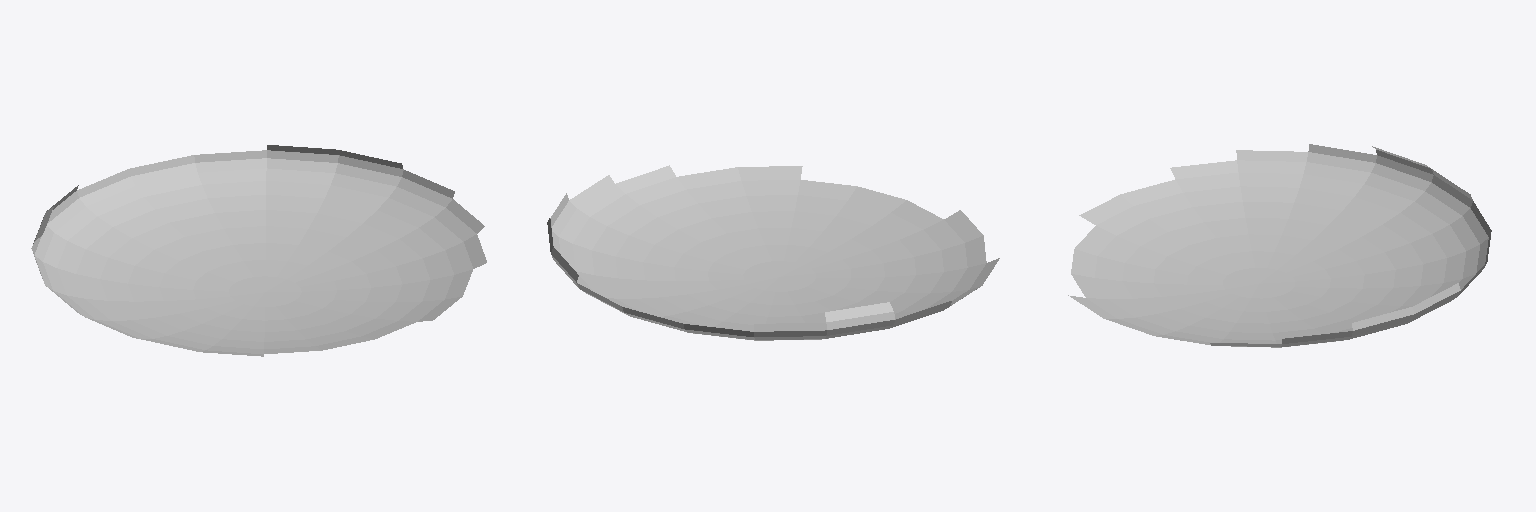
File: SnowCreate_.obj
3 renders of one model, left to right at view 1: azimuth 30°, elevation 25°; view 2: azimuth 150°, elevation 25°; view 3: azimuth 270°, elevation 25°, orthographic.
Parts seen in each view (by area): view 1: pSphere1; view 2: pSphere1; view 3: pSphere1.
Boxes of the visible parts, x1=… form: pSphere1: x1=31, y1=145, x2=486, y2=356; pSphere1: x1=547, y1=165, x2=999, y2=340; pSphere1: x1=1068, y1=144, x2=1491, y2=347.
Bounding box in the file's own units: 1.98 × 0.2673 × 1.81.